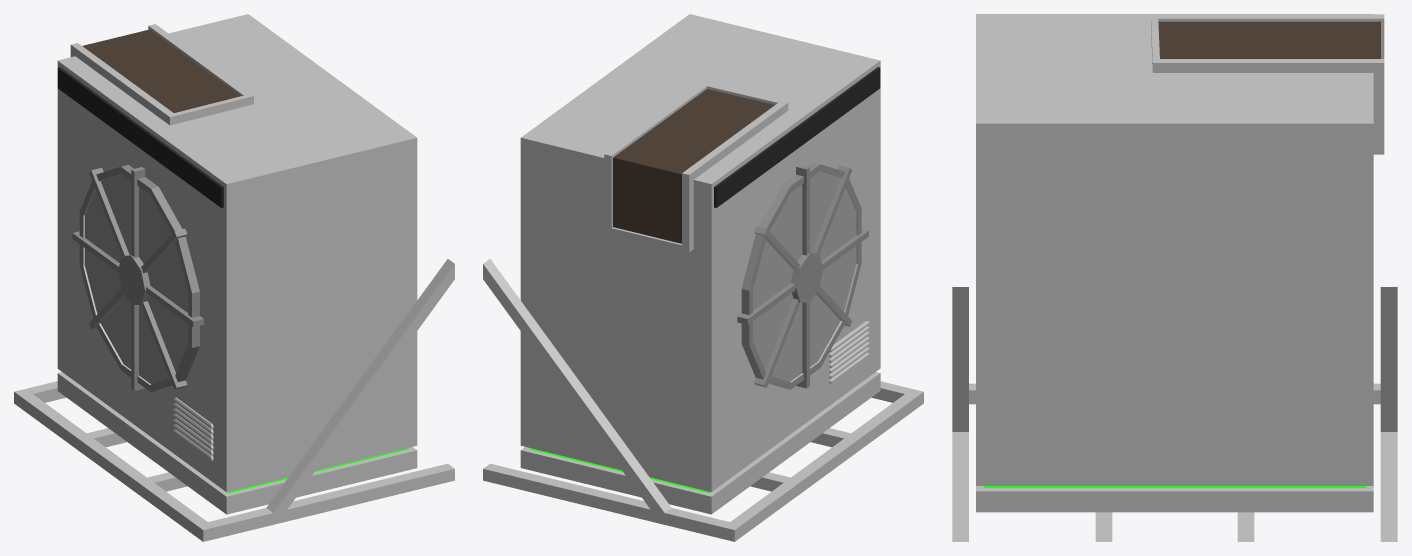
The model's file is Vent_06.FBX.
3 views of the same model, side by side, from view 1: azimuth 30°, elevation 25°; view 2: azimuth 150°, elevation 25°; view 3: azimuth 270°, elevation 25° (orthographic). The views are drawn at different scales.
Visible parts, largest first — view 1: Vent_06_LOD0, Vent_06_Support_LOD0; view 2: Vent_06_LOD0, Vent_06_Support_LOD0; view 3: Vent_06_LOD0, Vent_06_Support_LOD0.
Part boxes in pixels (bbox=[...]): Vent_06_LOD0: bbox=[57, 14, 417, 514]; Vent_06_Support_LOD0: bbox=[14, 259, 454, 541]; Vent_06_LOD0: bbox=[520, 14, 880, 514]; Vent_06_Support_LOD0: bbox=[483, 259, 923, 541]; Vent_06_LOD0: bbox=[976, 14, 1384, 512]; Vent_06_Support_LOD0: bbox=[952, 287, 1397, 541].
Size of what is drawn, in the model's own units: 46.48 by 61.87 by 60.51.
